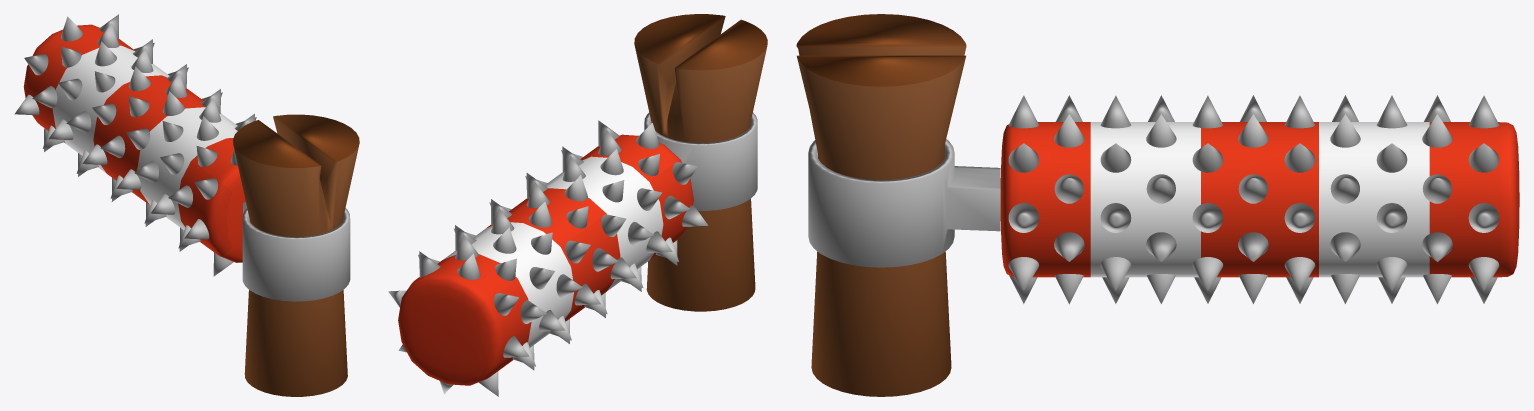
File: trap_trapcirclespikered.glb
The picture shows the model from 3 angles, left to right: view 1: azimuth 30°, elevation 25°; view 2: azimuth 150°, elevation 25°; view 3: azimuth 270°, elevation 25°; orthographic projection. The views are drawn at different scales.
Parts seen in each view (by area): view 1: Cylinder.020_visual, Cylinder.019_visual; view 2: Cylinder.020_visual, Cylinder.019_visual; view 3: Cylinder.020_visual, Cylinder.019_visual.
Boxes of the visible parts, x1,y1,x2,y2 form: Cylinder.020_visual: (14,14,350,301); Cylinder.019_visual: (233,114,359,396); Cylinder.020_visual: (388,112,757,396); Cylinder.019_visual: (634,14,767,311); Cylinder.020_visual: (808,95,1519,304); Cylinder.019_visual: (796,14,966,396).
Size of what is drawn, in the model's own units: 0.4944 by 0.8222 by 1.7.
Materials: 1 (1 with a texture image).
